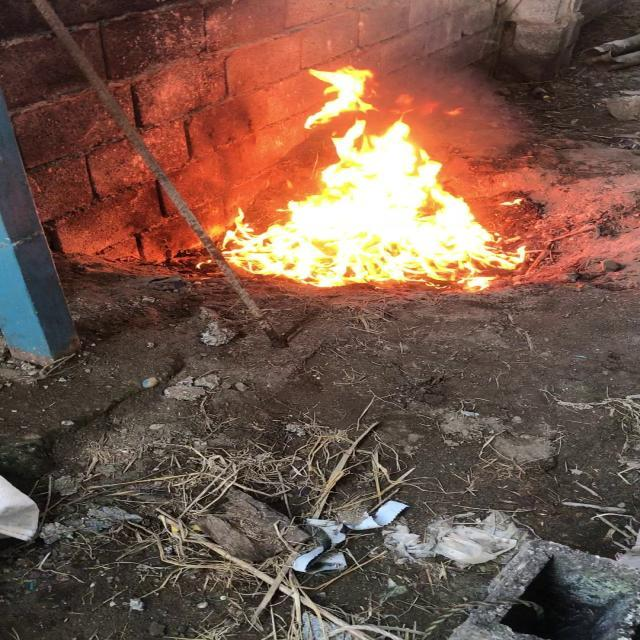Fire: (220, 70, 530, 298)
